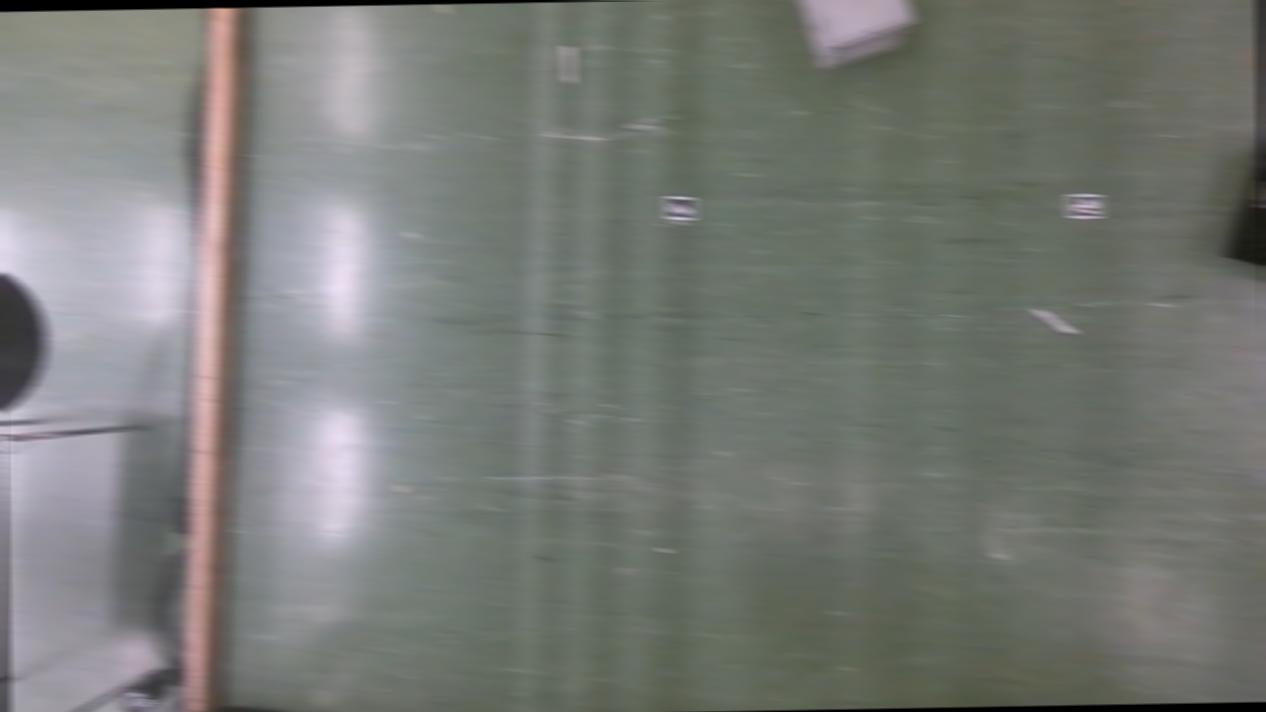probes: (1032, 308, 1076, 334), (558, 43, 578, 84)
rako: (794, 0, 917, 70)
